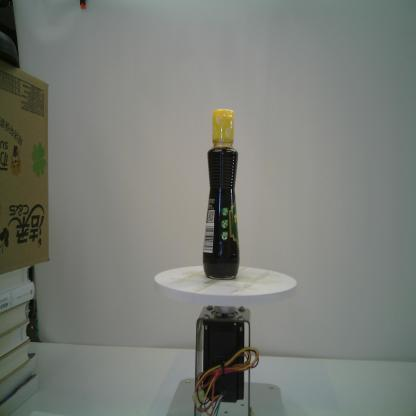Seasoner: (201, 107, 241, 281)
